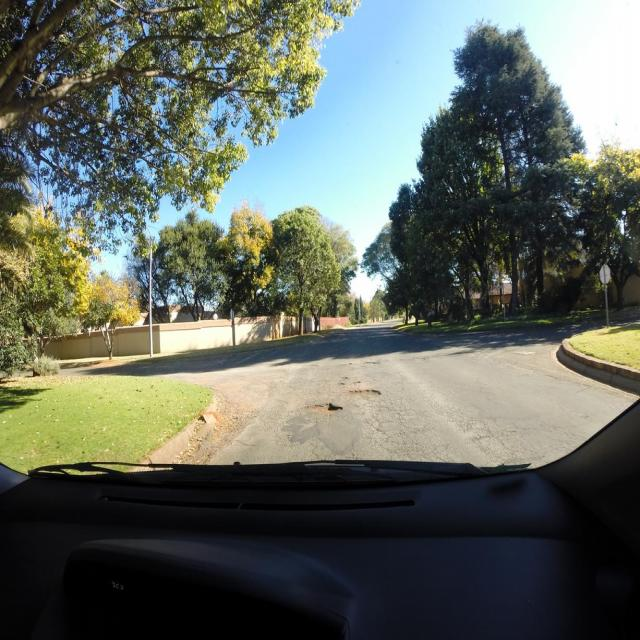Pothole: (302, 403, 342, 415), (347, 390, 382, 397), (366, 361, 380, 365), (351, 382, 361, 386), (338, 382, 345, 386), (340, 376, 349, 379), (414, 358, 425, 360), (310, 364, 320, 366), (348, 362, 352, 366)
